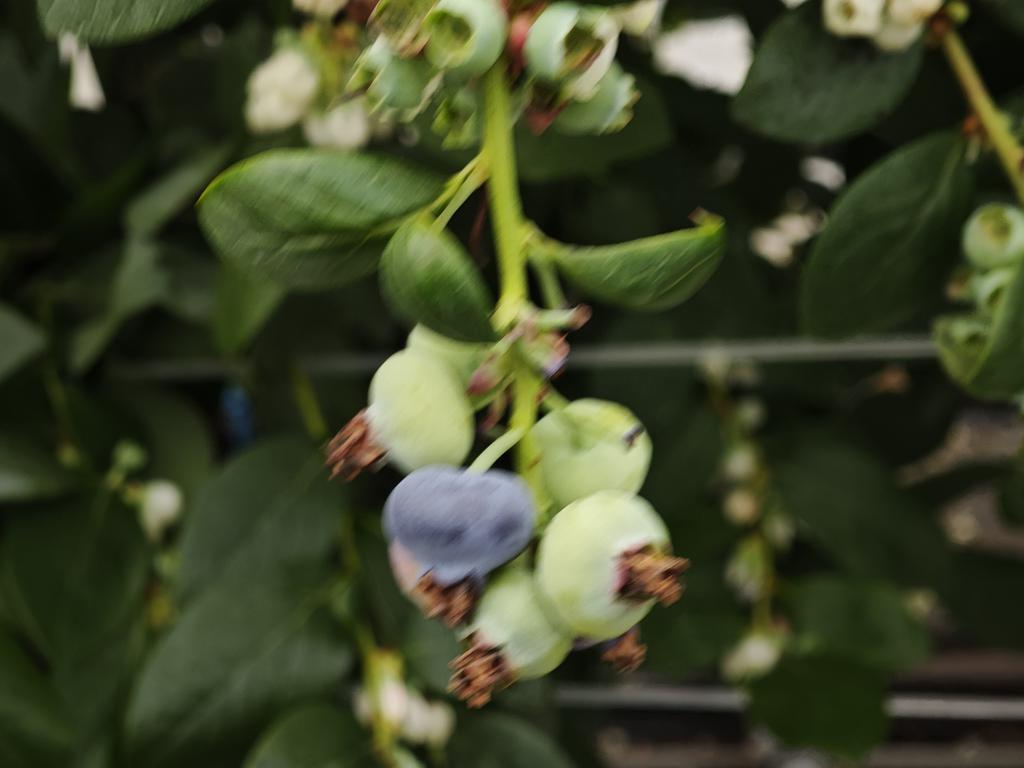RipeBlueBerry: (381, 464, 536, 581)
UnripeBlueBerry: (532, 487, 678, 640), (360, 348, 478, 474)
